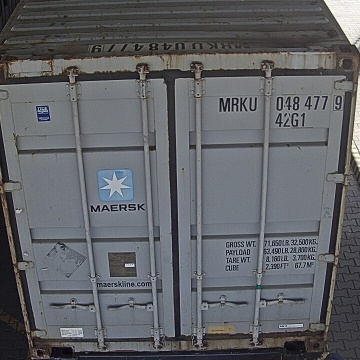serial_id: (219, 95, 342, 111)
